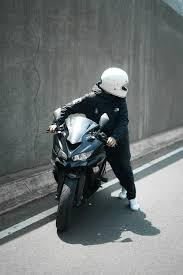Helmet: (101, 67, 126, 98)
